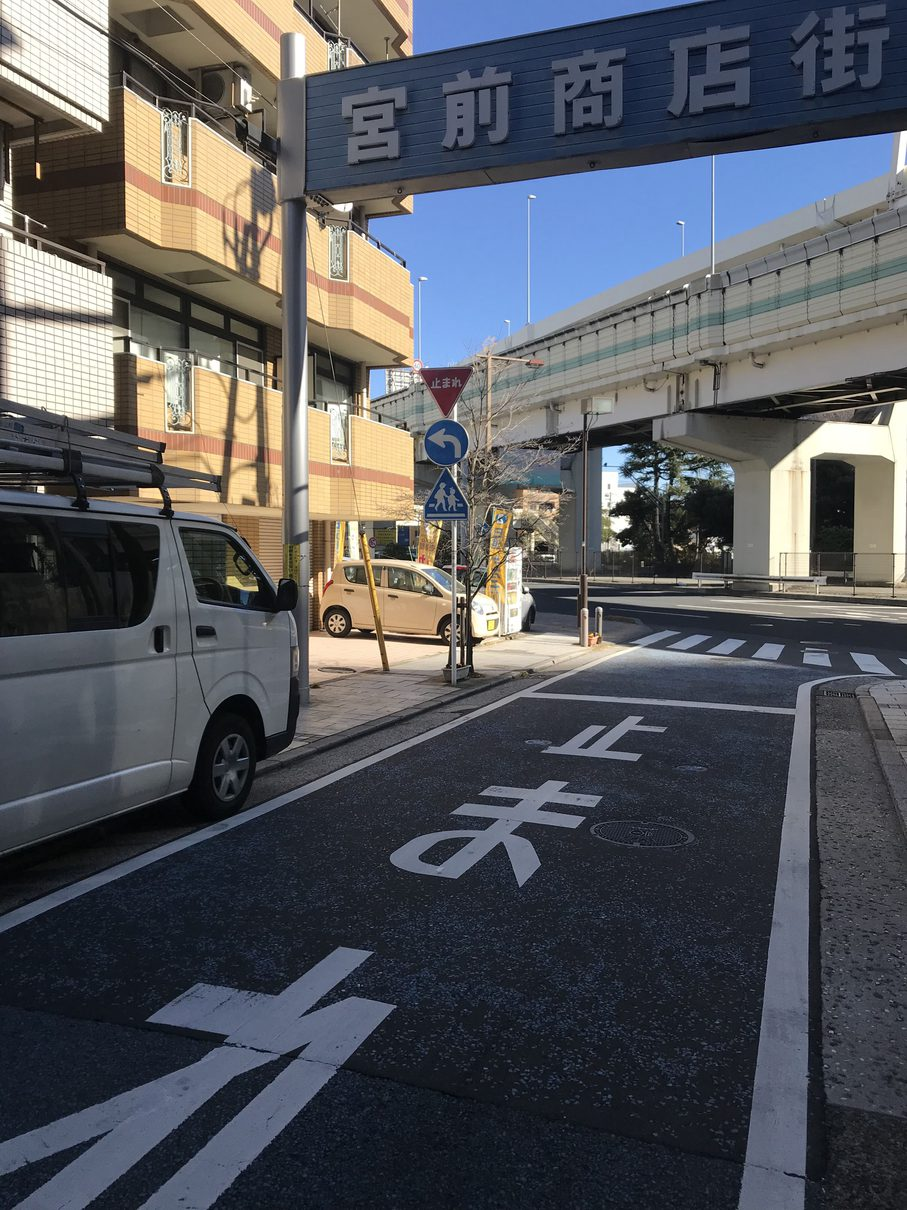stop_sign: (416, 366, 474, 417)
